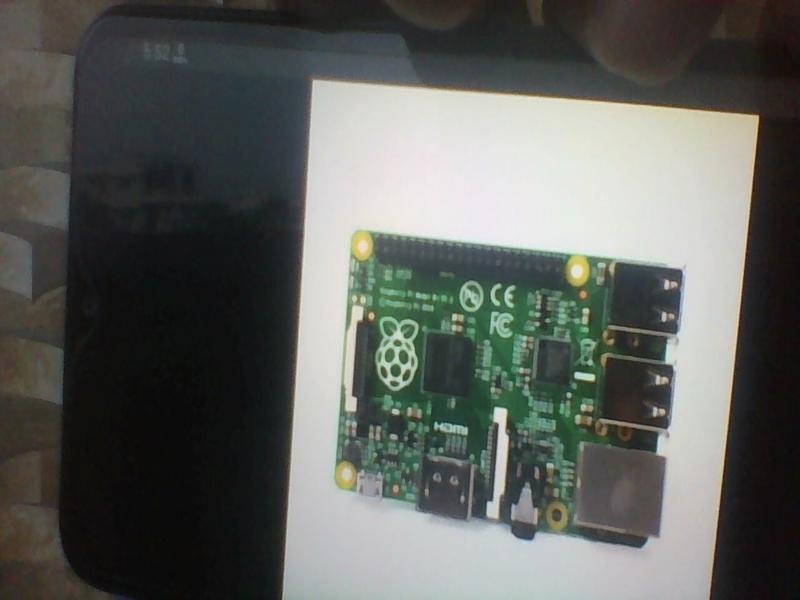aud: (510, 459, 541, 546)
eth: (573, 441, 668, 542)
usb: (602, 261, 684, 339), (598, 357, 674, 433)
